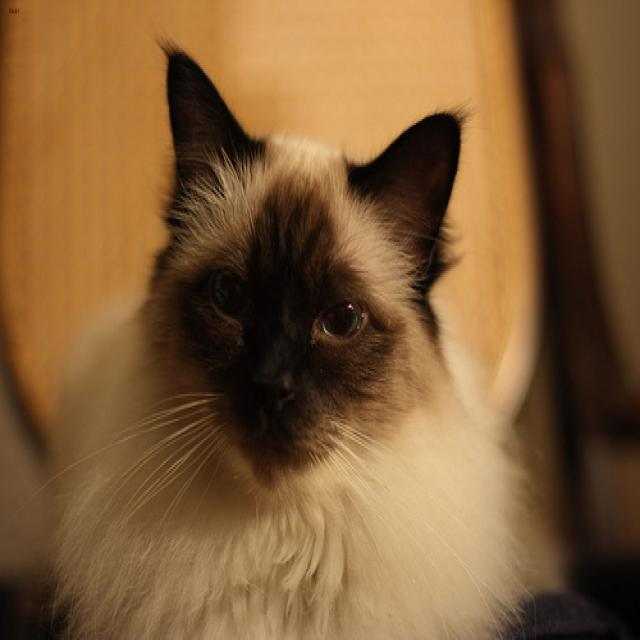cat: (164, 50, 458, 475)
